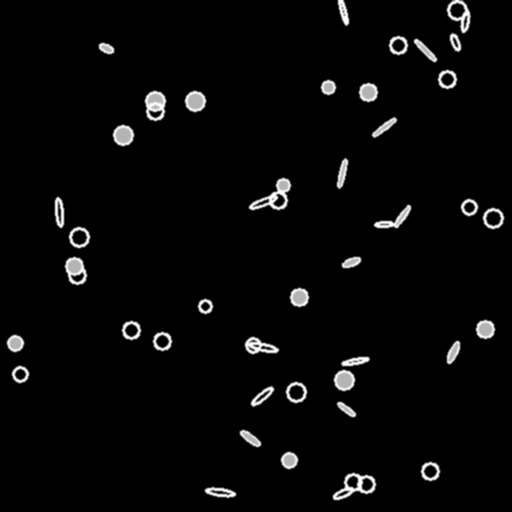pseudomonas: (413, 38, 437, 62), (249, 385, 275, 407), (371, 116, 397, 138), (249, 194, 277, 210), (393, 204, 411, 228), (239, 429, 261, 447), (445, 340, 461, 364), (336, 159, 348, 187), (249, 341, 277, 353), (336, 401, 356, 417), (332, 486, 354, 500), (337, 0, 349, 24), (206, 487, 234, 497), (341, 255, 361, 269), (342, 356, 368, 366), (55, 197, 63, 227), (460, 10, 470, 32), (449, 33, 461, 51), (98, 42, 114, 54), (374, 221, 394, 227)
synechocystis: (335, 371, 353, 389), (186, 92, 204, 110), (484, 209, 502, 227), (114, 126, 132, 144), (70, 228, 88, 246), (146, 92, 164, 110), (448, 1, 466, 19), (287, 383, 305, 401), (477, 321, 493, 337), (358, 476, 374, 492), (270, 192, 286, 208), (345, 474, 361, 490), (69, 267, 85, 283), (123, 322, 139, 338), (154, 333, 170, 349), (422, 463, 438, 479), (66, 258, 82, 274), (390, 37, 406, 53), (360, 84, 376, 100), (439, 71, 455, 87), (147, 103, 163, 119), (291, 289, 307, 305), (13, 367, 27, 381), (462, 200, 476, 214), (246, 338, 260, 352), (8, 336, 22, 350), (282, 453, 296, 467), (322, 81, 334, 93), (277, 179, 289, 191), (199, 300, 211, 312)
